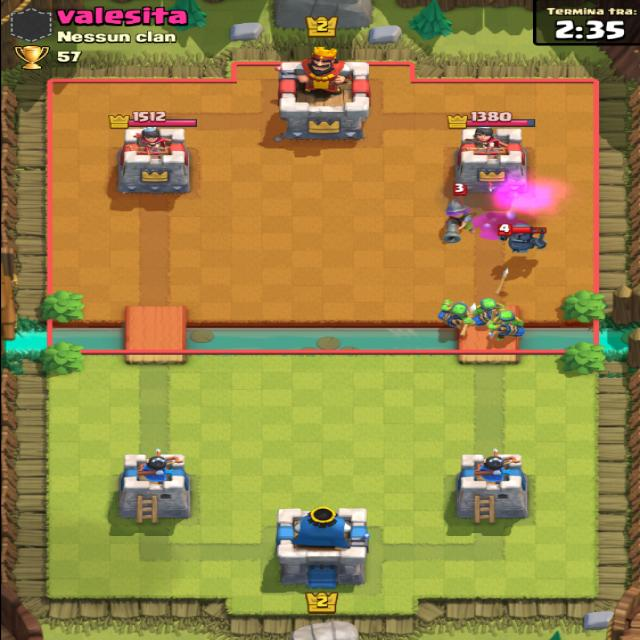Enemy-MiniPEKKA: (499, 217, 551, 254)
Enemy-Musketeer: (439, 179, 469, 244)
Player-SpearGoblin: (491, 314, 530, 343), (446, 304, 473, 341), (468, 296, 494, 326)
